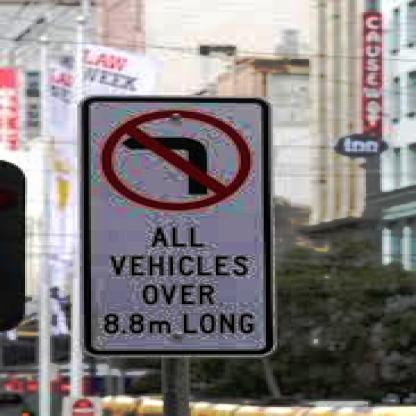No left turn: (90, 103, 266, 212)
